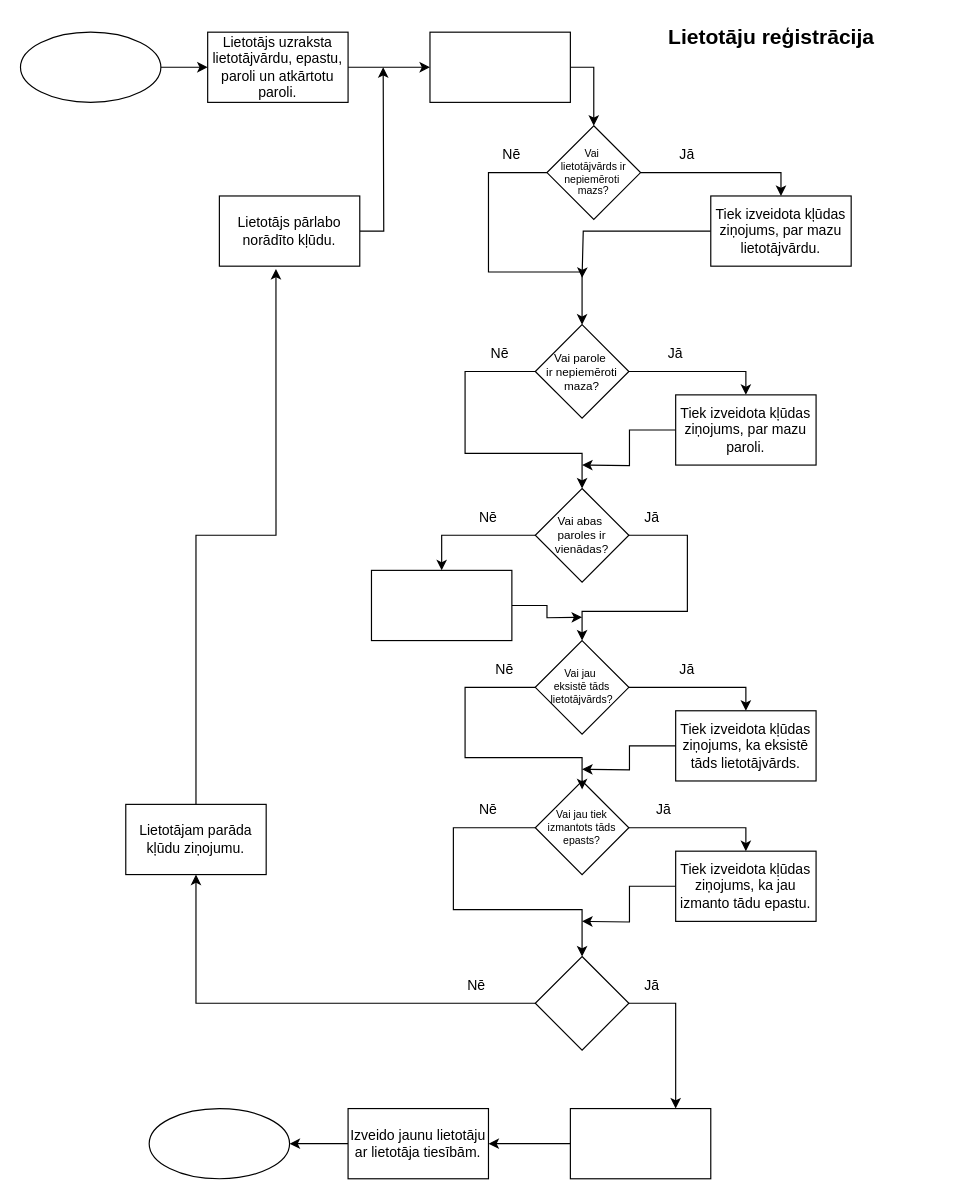
Image size: 973x1199. Some labels were removed from this diagram. The centre of each missing label's shape, as x and y in pixels:
Lietotājs izvēlās reģistrēties .: the point at 90,66
Lietotājs sūta datus sistēmai.: the point at 499,66
Lietotāju aizsūta uz sākumlapu.: the point at 219,1143
Paroli nohešo.: the point at 640,1143
Tiek izveidota kļūdas ziņojums, ka nav vienādas paroles.: the point at 441,605
Vai neizveidoja kļūdu ziņojumus?: the point at 581,1002
